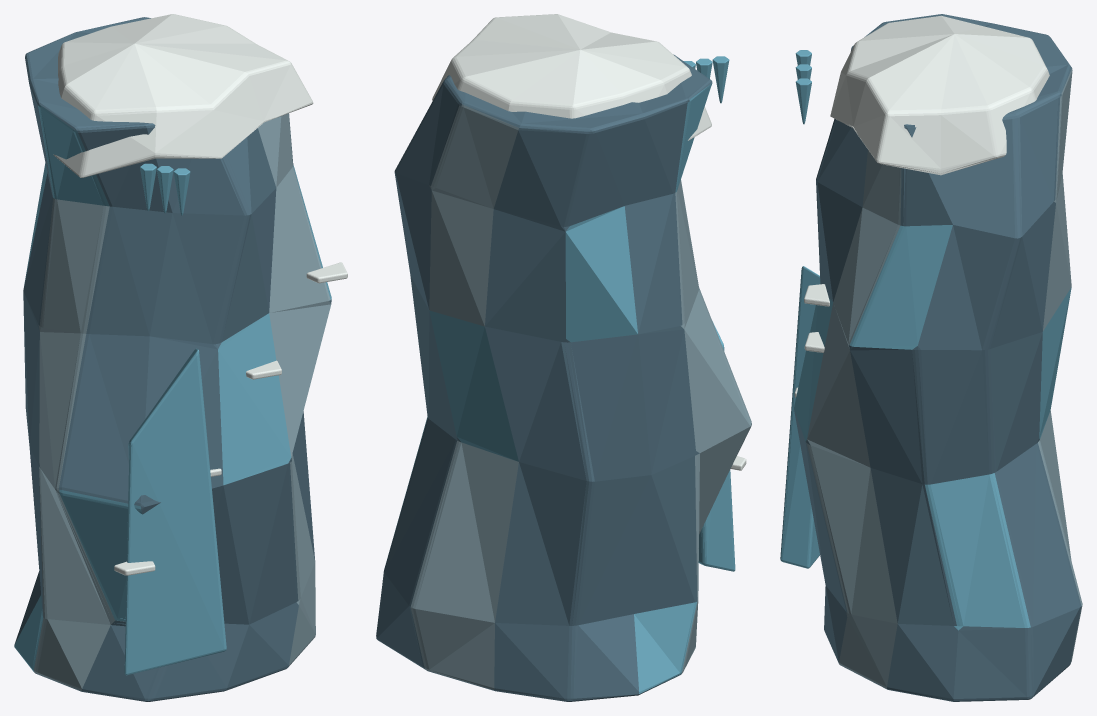
Rendered from CliffSpire-v3.fbx.
3 renders of one model, left to right at view 1: azimuth 30°, elevation 25°; view 2: azimuth 150°, elevation 25°; view 3: azimuth 270°, elevation 25°, orthographic. The views are drawn at different scales.
Parts seen in each view (by area): view 1: GFC2_CliffSpire_Rock, GFC2_CliffSpire_SnowCap, GFC2_CliffSpire_IceFracture, GFC2_CliffSpire; view 2: GFC2_CliffSpire_Rock, GFC2_CliffSpire_SnowCap, GFC2_CliffSpire_IceFracture, GFC2_CliffSpire; view 3: GFC2_CliffSpire_Rock, GFC2_CliffSpire_SnowCap, GFC2_CliffSpire_IceFracture, GFC2_CliffSpire.
Boxes of the visible parts, left/top/right/bottom form: GFC2_CliffSpire_Rock: left=14, top=17, right=331, bottom=701; GFC2_CliffSpire_SnowCap: left=53, top=14, right=313, bottom=177; GFC2_CliffSpire_IceFracture: left=124, top=348, right=226, bottom=675; GFC2_CliffSpire: left=114, top=163, right=347, bottom=575; GFC2_CliffSpire_Rock: left=376, top=54, right=751, bottom=701; GFC2_CliffSpire_SnowCap: left=432, top=14, right=711, bottom=140; GFC2_CliffSpire_IceFracture: left=698, top=321, right=735, bottom=571; GFC2_CliffSpire: left=684, top=56, right=746, bottom=470; GFC2_CliffSpire_Rock: left=794, top=14, right=1082, bottom=701; GFC2_CliffSpire_SnowCap: left=830, top=15, right=1049, bottom=175; GFC2_CliffSpire_IceFracture: left=780, top=266, right=820, bottom=568; GFC2_CliffSpire: left=794, top=50, right=829, bottom=397.
Size of the model in its own units: 3.89 by 7.58 by 3.53.
